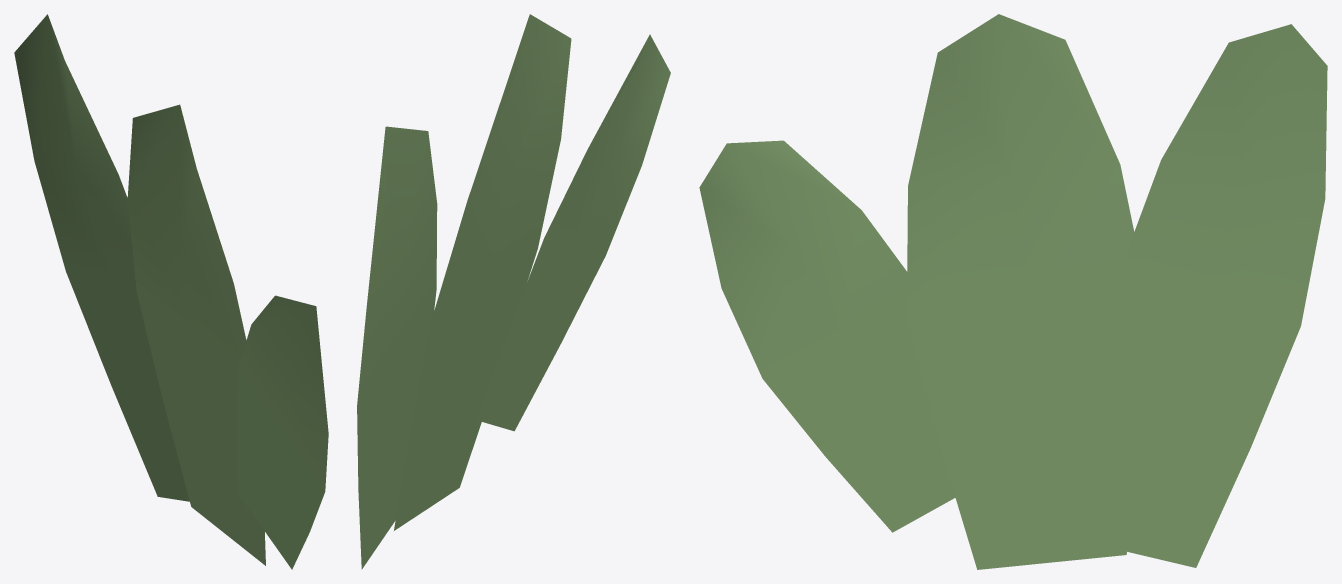
Rendered from Pasto_grp.fbx.
3 renders of one model, left to right at view 1: azimuth 30°, elevation 25°; view 2: azimuth 150°, elevation 25°; view 3: azimuth 270°, elevation 25°, orthographic. The views are drawn at different scales.
Visible parts, largest first — view 1: pPlane78, pPlane79, pPlane80; view 2: pPlane78, pPlane79, pPlane80; view 3: pPlane78, pPlane79, pPlane80.
Part boxes in pixels (x1,y1,x2,y2): pPlane78: (127,104,265,565); pPlane79: (14,14,189,501); pPlane80: (236,295,328,569); pPlane78: (394,14,571,530); pPlane79: (357,126,437,569); pPlane80: (476,34,670,431); pPlane78: (907,14,1134,569); pPlane79: (1080,24,1327,567); pPlane80: (699,140,955,532).
Size of the model in its own units: 0.1754 by 0.8592 by 0.9446.
